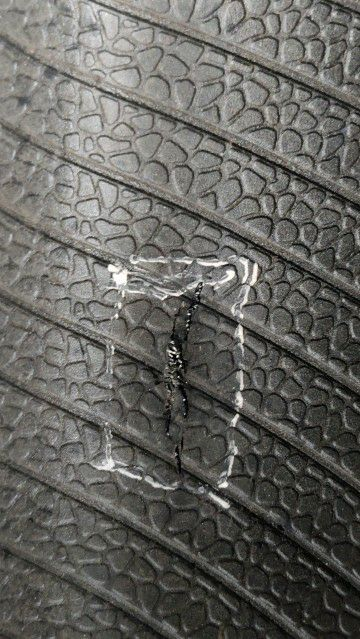cut: (145, 276, 217, 503)
